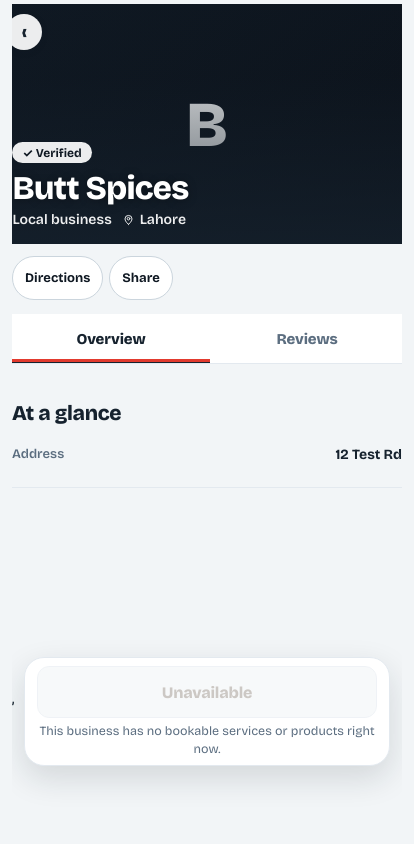
Test: BusinessDetail reviews section › shows the rating summary, count and review cards
Click the tab "Reviews": [307, 340] box x1=212 y1=316 x2=402 y2=364
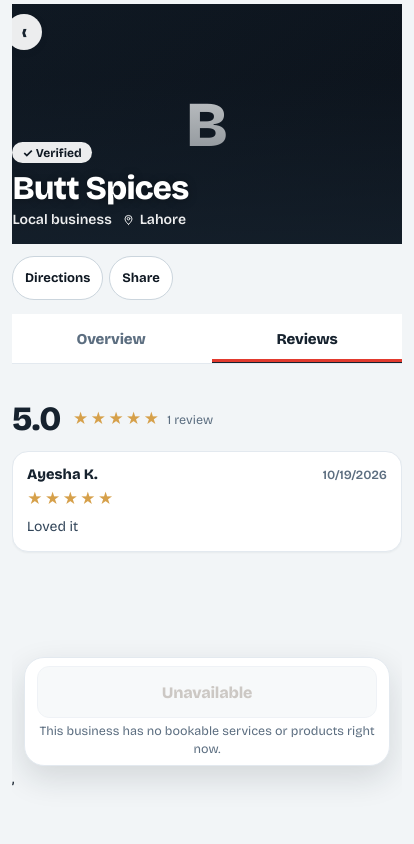
Now the text "5.0" is shown, box x1=12 y1=398 x2=61 y2=438
Now the text "1 review" is shown, box x1=167 y1=412 x2=213 y2=426
Now the text "Ayesha K." is shown, box x1=27 y1=466 x2=98 y2=482
